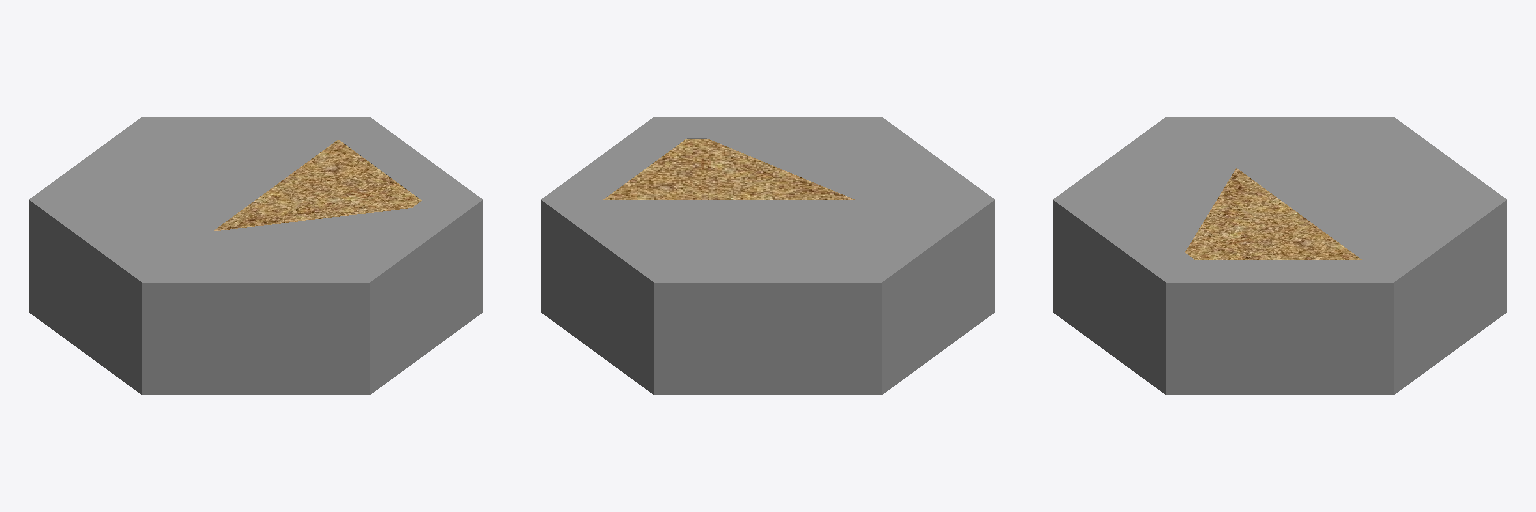
The picture shows the model from 3 angles: view 1: azimuth 30°, elevation 25°; view 2: azimuth 150°, elevation 25°; view 3: azimuth 270°, elevation 25°; orthographic projection.
Visible parts, largest first — view 1: Cylinder; view 2: Cylinder; view 3: Cylinder.
Boxes of the visible parts, x1,y1,x2,y2 form: Cylinder: [29, 117, 482, 394]; Cylinder: [541, 117, 994, 394]; Cylinder: [1053, 117, 1506, 394].
Size of the model in its own units: 1.73 by 0.5472 by 2.
Materials: 3 (1 with a texture image).